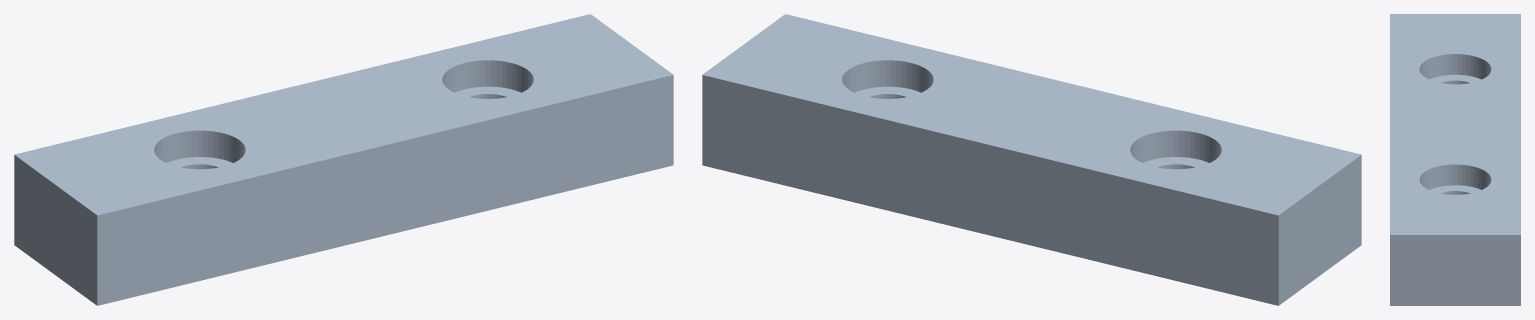
3 renders of one model, left to right at view 1: azimuth 30°, elevation 25°; view 2: azimuth 150°, elevation 25°; view 3: azimuth 270°, elevation 25°, orthographic. The views are drawn at different scales.
Parts seen in each view (by area): view 1: p01; view 2: p01; view 3: p01.
Boxes of the visible parts, bbox=[...] form: p01: bbox=[14, 14, 673, 305]; p01: bbox=[702, 14, 1361, 305]; p01: bbox=[1390, 14, 1520, 305].
Bounding box in the file's own units: 0.08 × 0.012 × 0.02.
